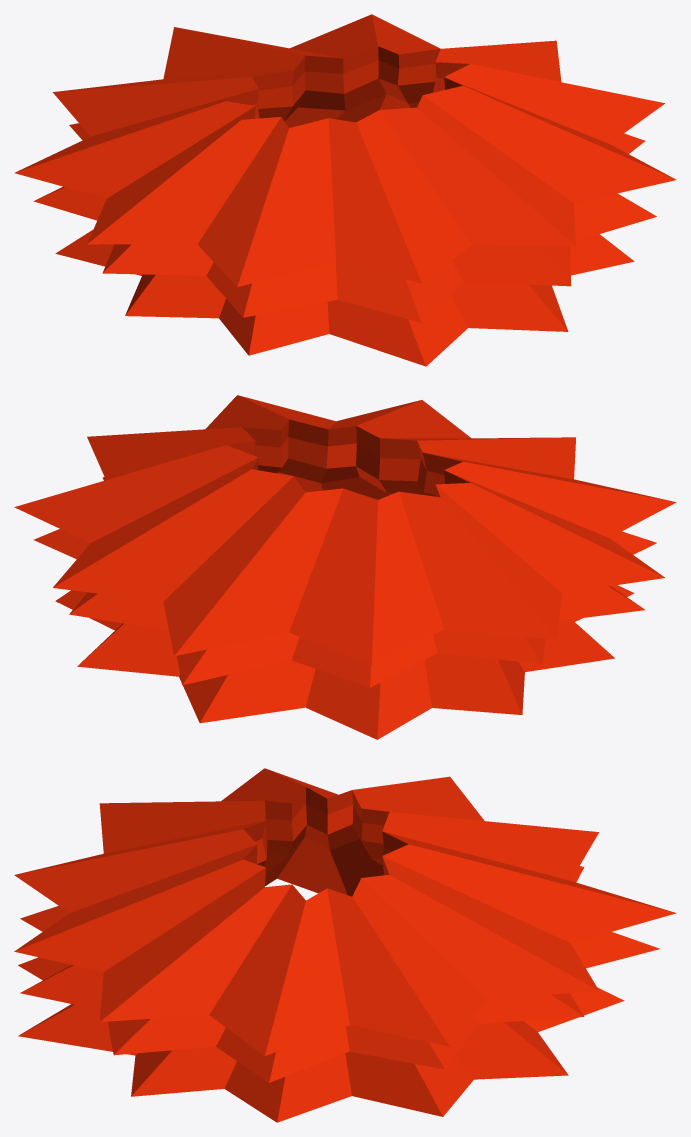
Rendered from SaritahTutu.fbx.
3 renders of one model, top to bottom at view 1: azimuth 30°, elevation 25°; view 2: azimuth 150°, elevation 25°; view 3: azimuth 270°, elevation 25°, orthographic.
Visible parts, largest first — view 1: Tutu; view 2: Tutu; view 3: Tutu.
Part boxes in pixels (x1,y1,x2,y2): Tutu: [14, 14, 676, 366]; Tutu: [14, 395, 676, 739]; Tutu: [14, 768, 676, 1122].
Size of the model in its own units: 212 by 54.08 by 206.
